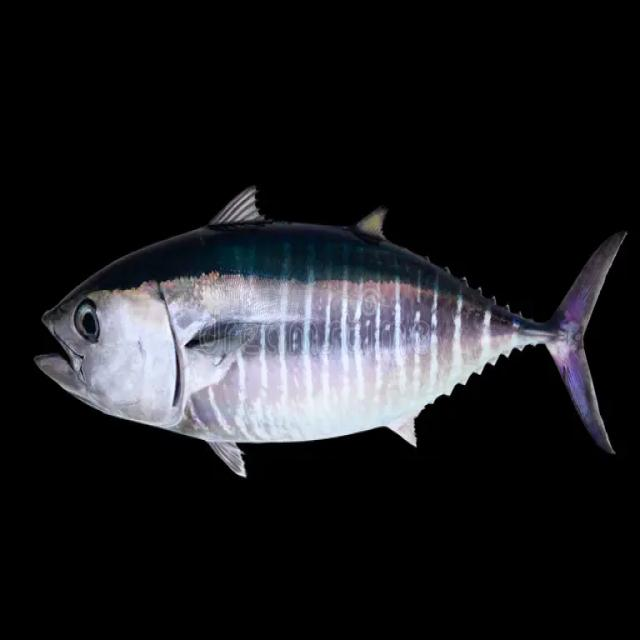Tuna: (34, 187, 626, 481)
